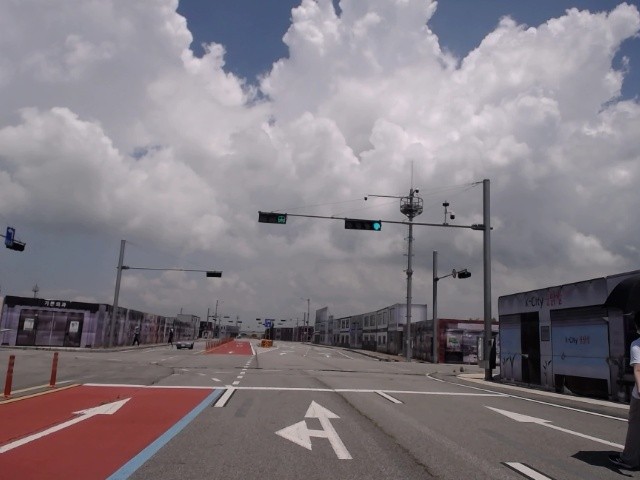straight_green_4: (344, 217, 381, 230)
